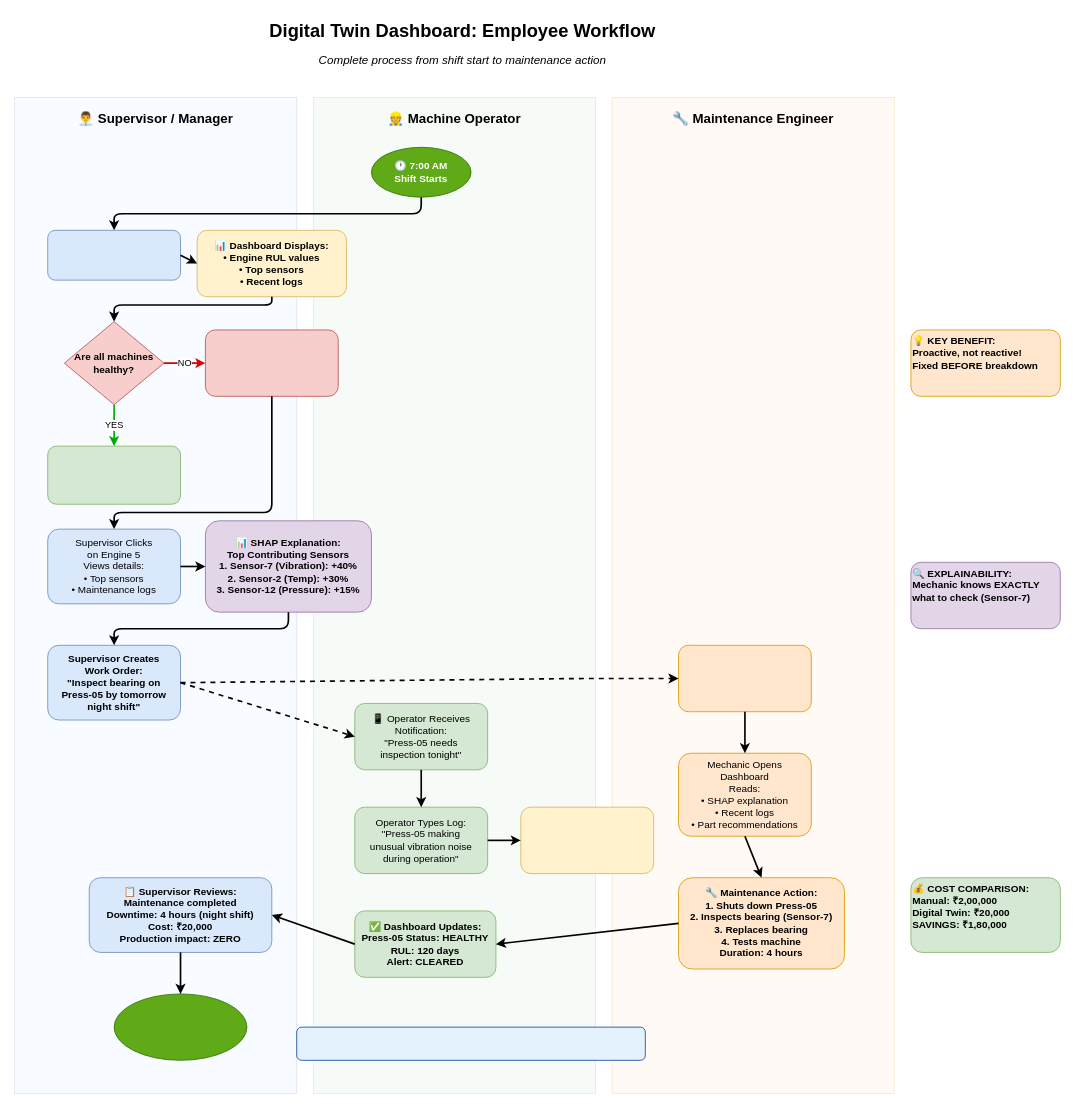
The diagram is 1075 pixels wide and 1108 high, and some of its shapes have lost their labels. The shapes that lost their labels are listed below. From the top down, each one's centre as x and y in pixels, then its label:
[114,254]: Opens Dashboard on Tablet/Computer
[271,362]: ⚠️ ALERT DETECTED! Example: Press-05 RUL = 12 days Status: 🔴 URGENT
[114,474]: ✅ All Healthy Continue production Monitor throughout shift
[744,678]: 🔔 Mechanic Gets Alert: "Urgent: Replace bearing on Press-05" Priority: HIGH
[587,840]: 🤖 NLP Classifies Log: Predicted Fault: "Bearing Issue" Confidence: 95%
[180,1026]: ✅ MISSION SUCCESS Prevented breakdown! Saved ₹1,80,000
[470,1043]: ⏱️ TIMELINE: 7:00 AM Alert → 11:00 PM Maintenance → Zero Production Loss
